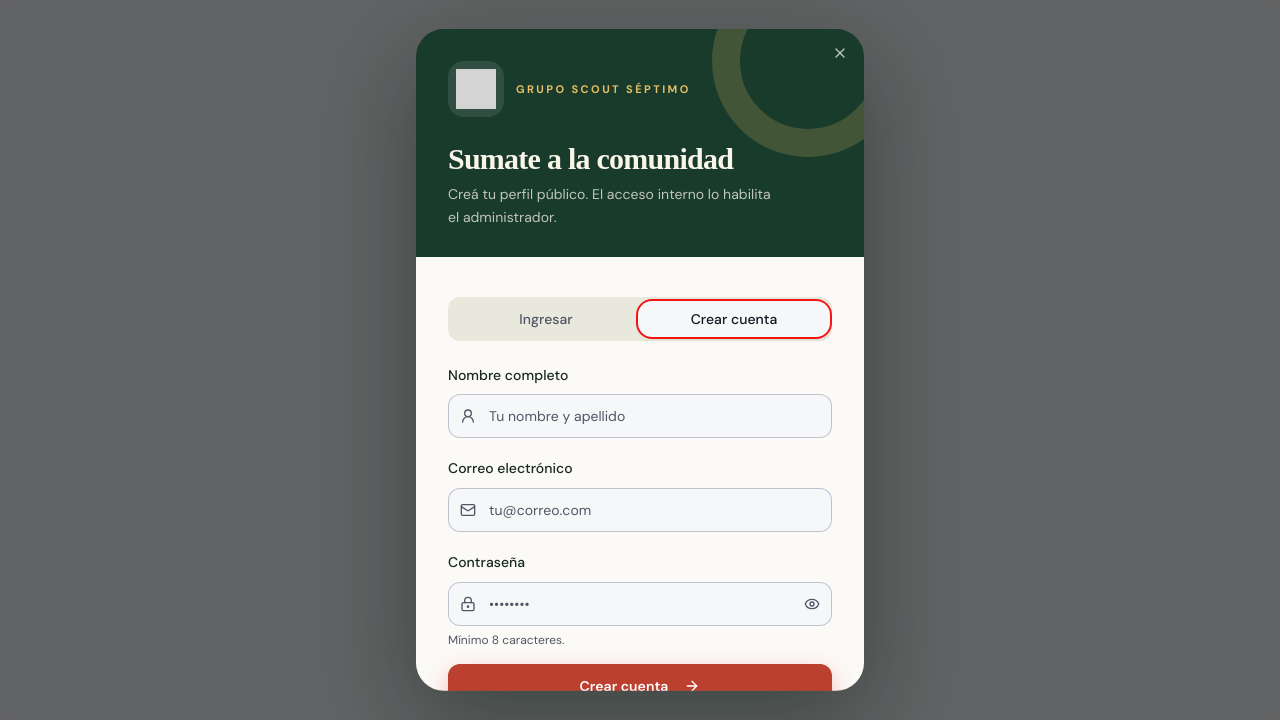
Test: public account registration › shows a useful message when Supabase limits signup attempts
This screenshot has width=1280, height=720.
Type "Scout Prueba" into the field labelled "Nombre completo" at (640, 416), box [448, 394, 832, 438]
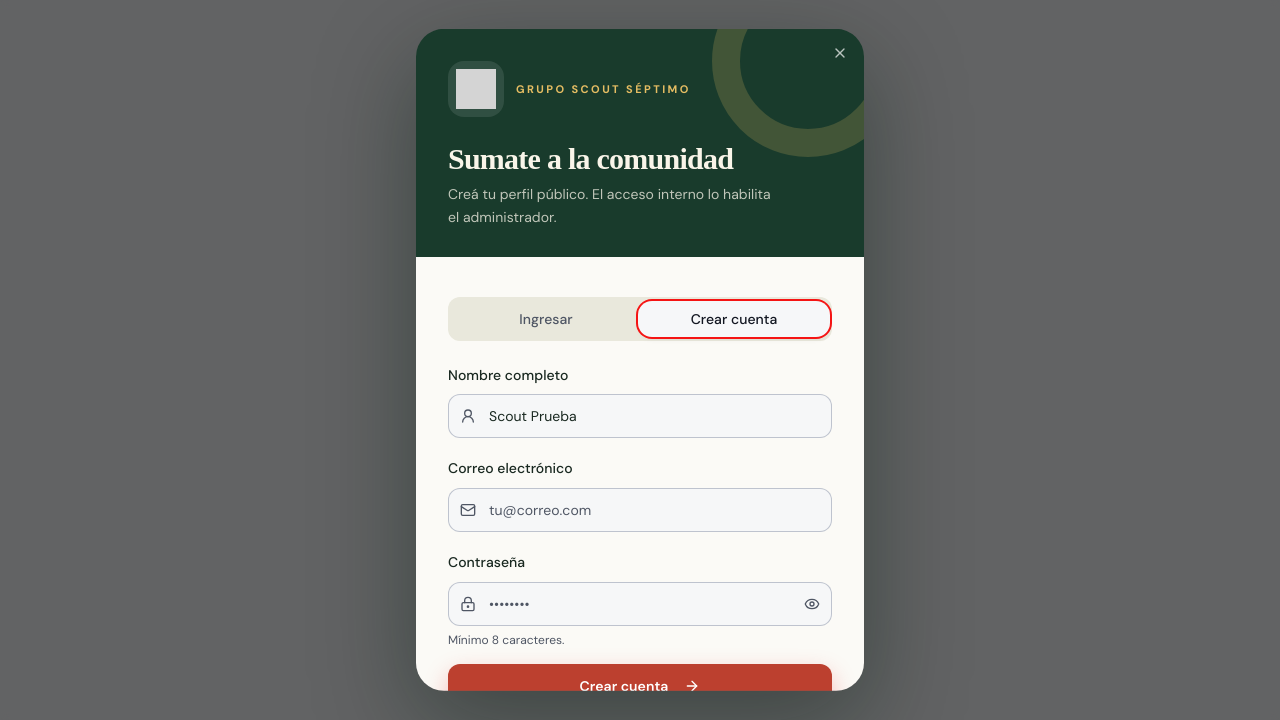
Type "SCOUT@example.com" into the field labelled "Correo electrónico" at (640, 510), box [448, 488, 832, 532]
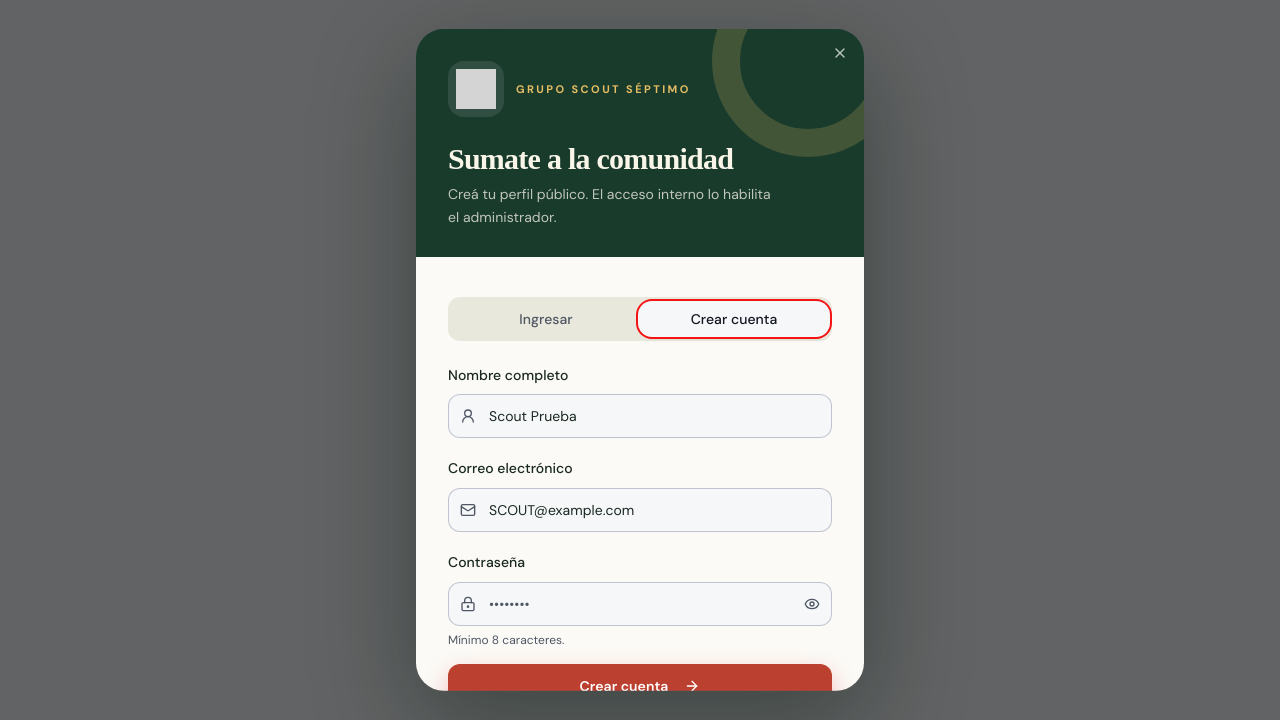
Type "password-segura" into the password field labelled "Contraseña" at (640, 603), box [448, 581, 832, 625]
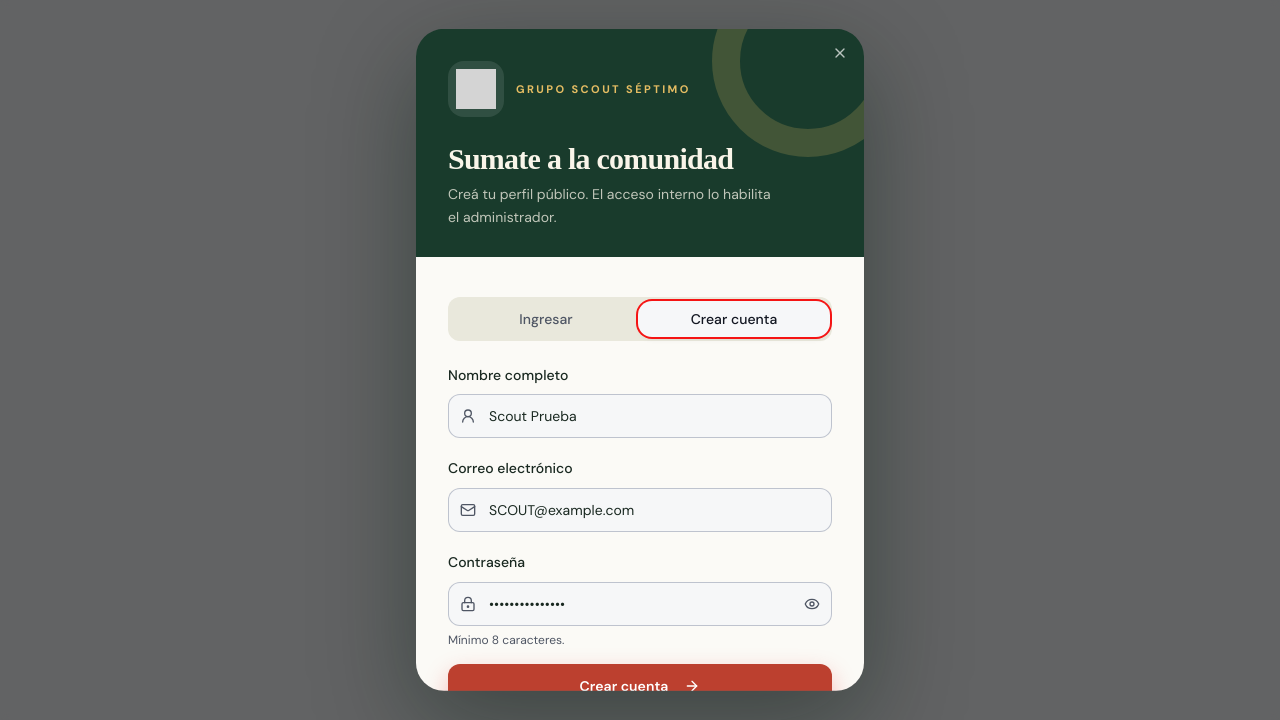
Click the button "Crear cuenta" at (640, 685), box [448, 663, 832, 707]
(page scrolled)
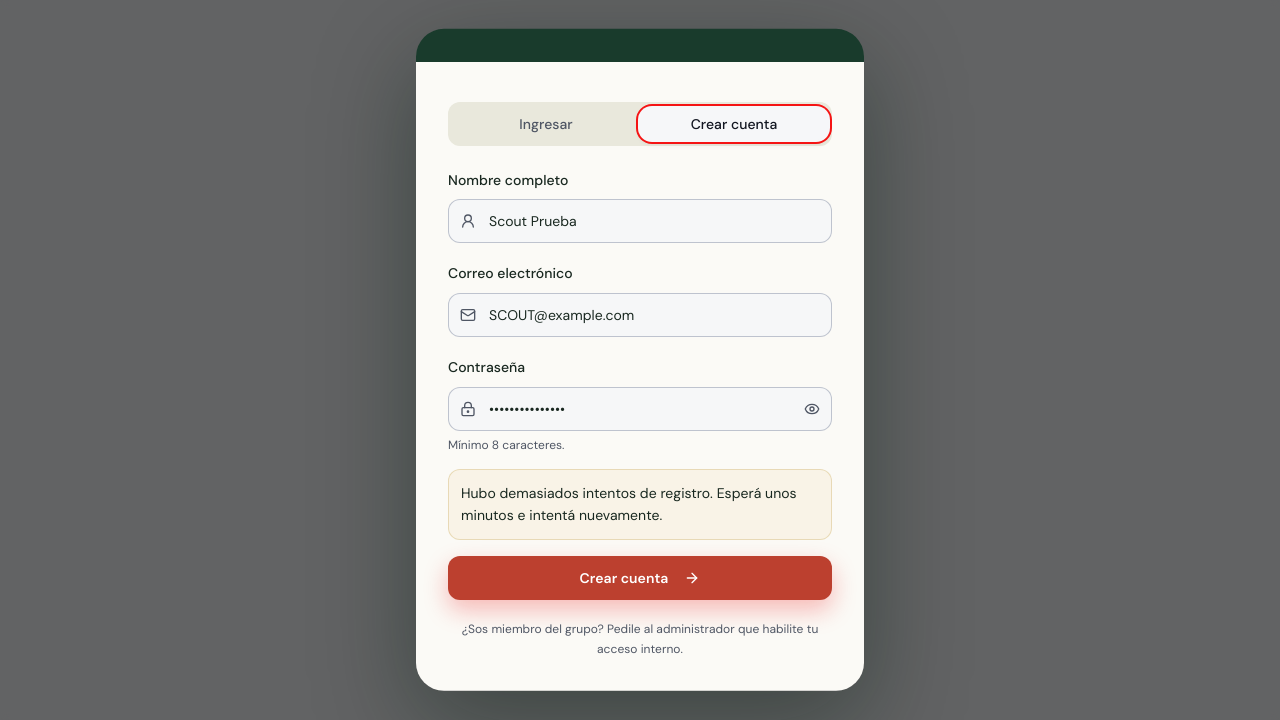
Check: the message shows "Hubo demasiados intentos de registro", box [461, 483, 797, 524]
